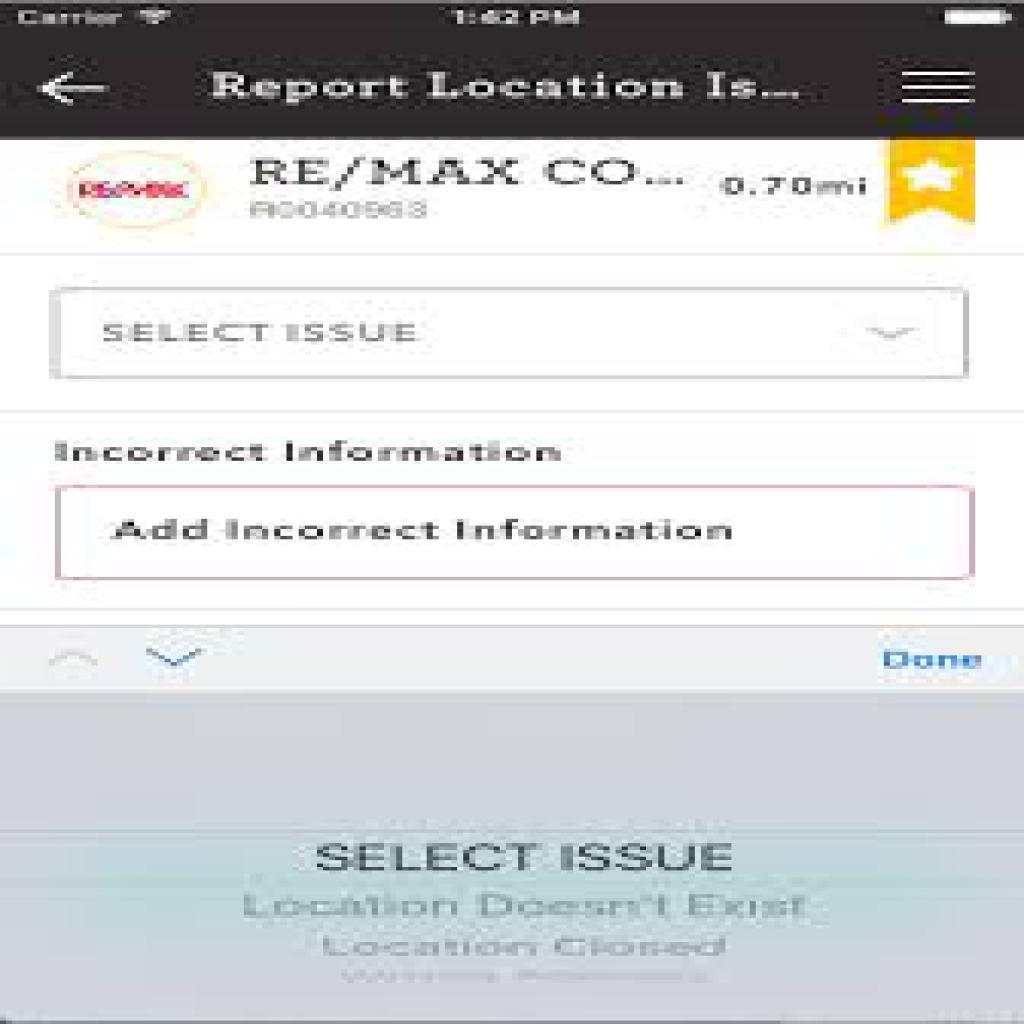dropdown: (54, 291, 970, 377)
icon: (36, 63, 112, 114), (899, 65, 981, 111), (146, 637, 209, 673), (46, 643, 103, 679)
input: (56, 485, 973, 578)
